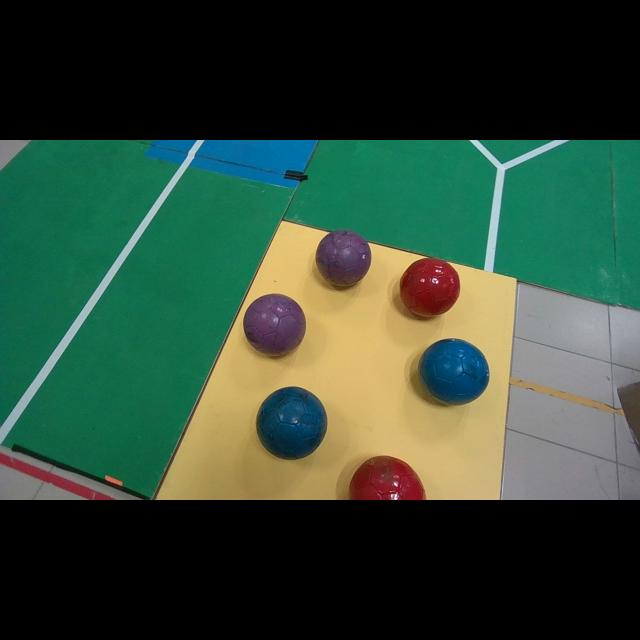B: (256, 386, 328, 460), (419, 340, 489, 405)
P: (245, 295, 306, 355), (315, 230, 371, 286)
R: (400, 258, 460, 317), (349, 455, 425, 500)
